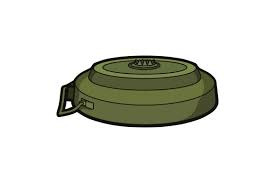car: (37, 41, 239, 140)
